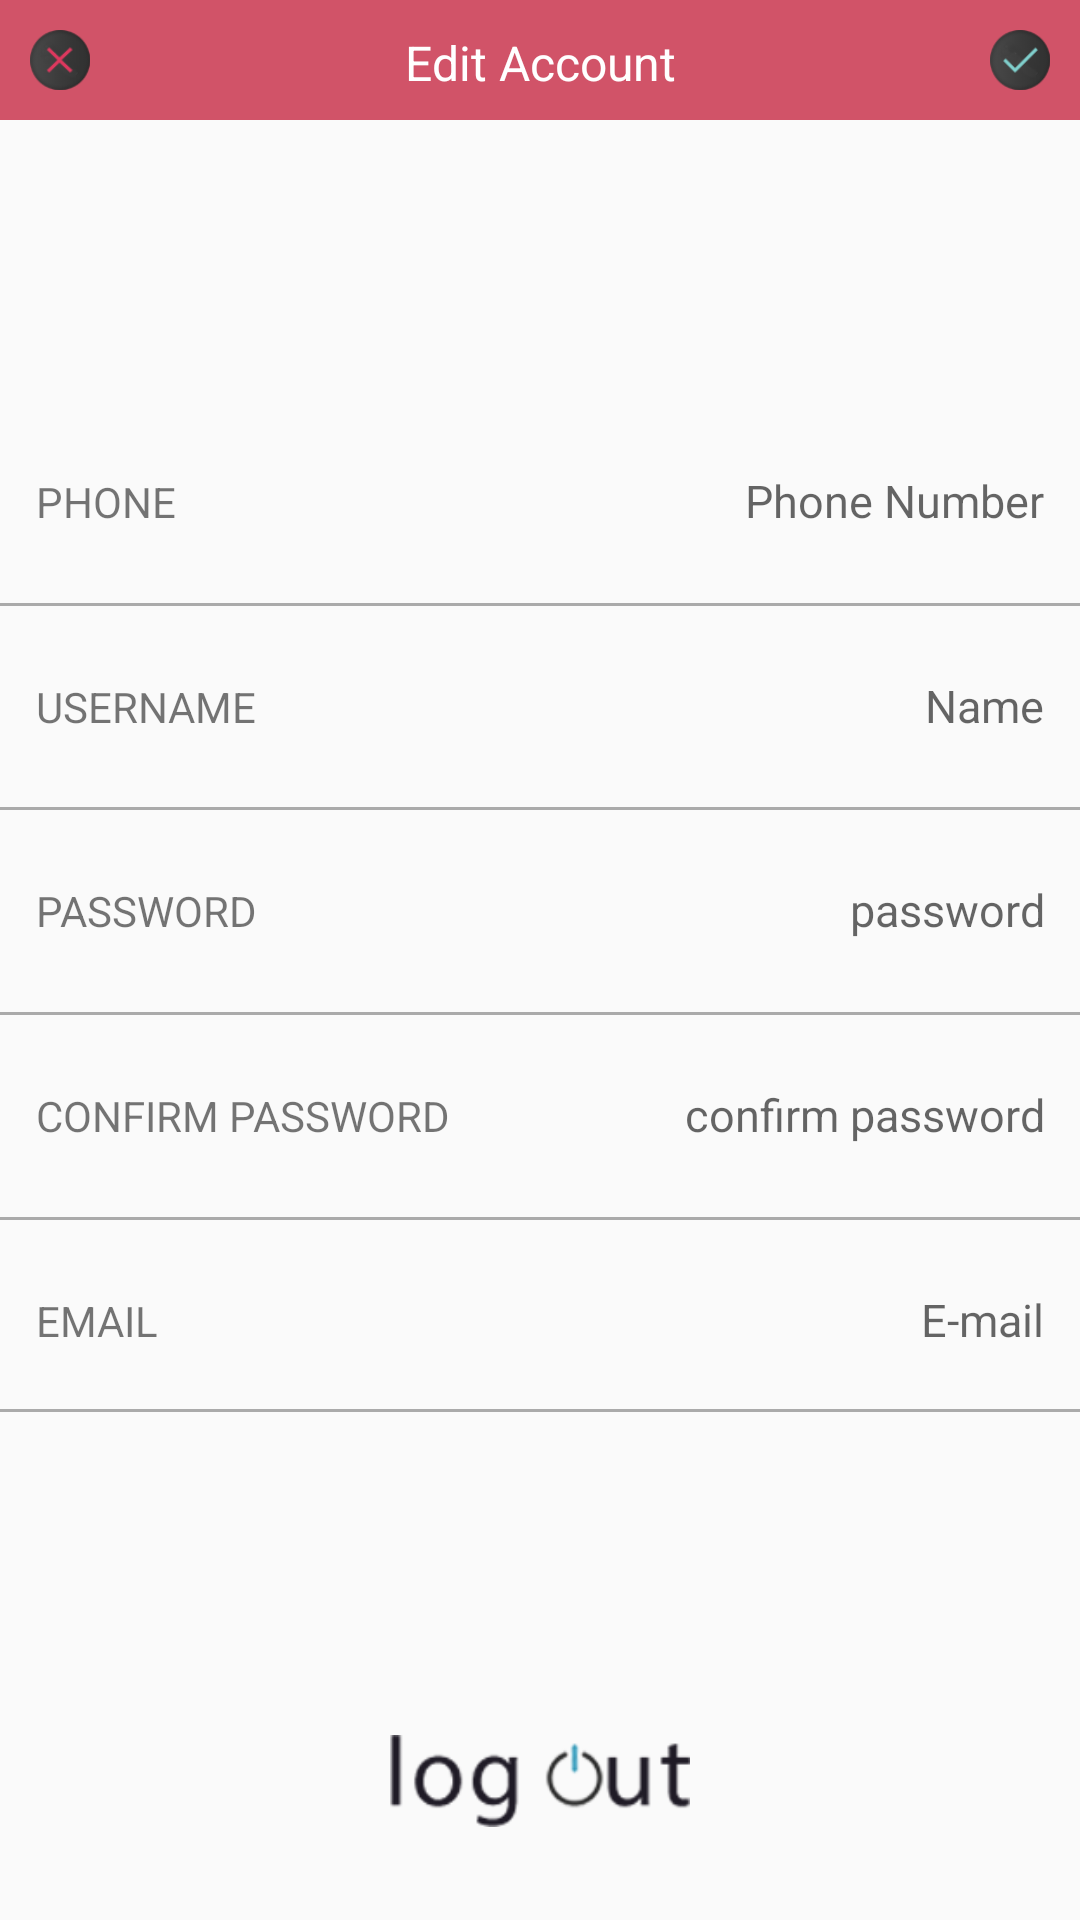

Screen size 1080w x 1920h. Icon name, then its box in pixels as {"left": x1, "top": y1, "right": x2, "bottom": y2}:
setting cancel: {"left": 30, "top": 30, "right": 90, "bottom": 90}
setting ok: {"left": 990, "top": 30, "right": 1050, "bottom": 90}
